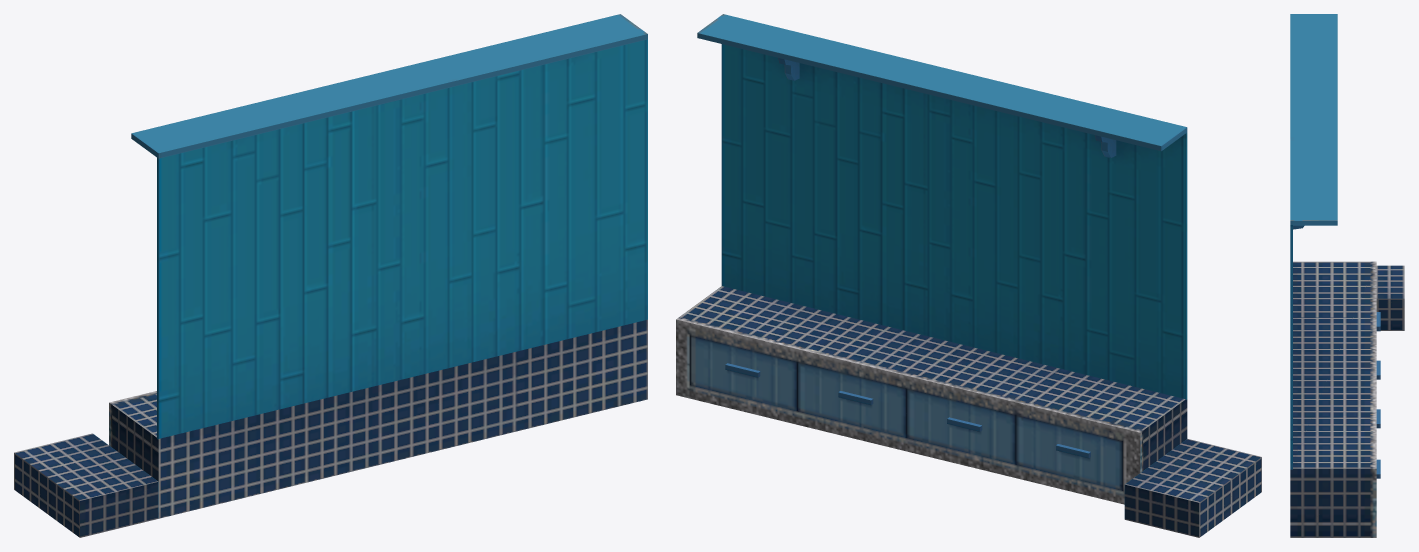
The model's file is furni_0200049_02.FBX.
3 views of the same model, side by side, from view 1: azimuth 30°, elevation 25°; view 2: azimuth 150°, elevation 25°; view 3: azimuth 270°, elevation 25° (orthographic). The views are drawn at different scales.
Parts seen in each view (by area): view 1: furni_0200049; view 2: furni_0200049; view 3: furni_0200049.
Boxes of the visible parts, x1,y1,x2,y2 form: furni_0200049: (14,14,647,537); furni_0200049: (676,14,1261,537); furni_0200049: (1290,14,1404,537).
Size of the model in its own units: 373 by 229 by 75.09.
